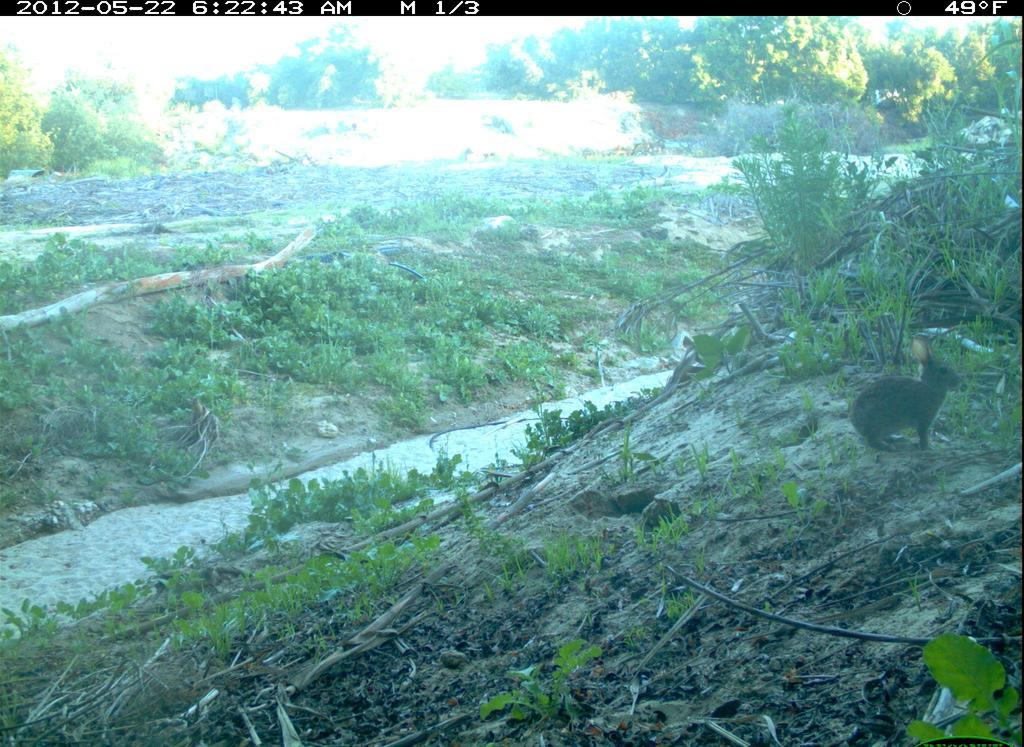rabbit: (845, 322, 975, 469)
